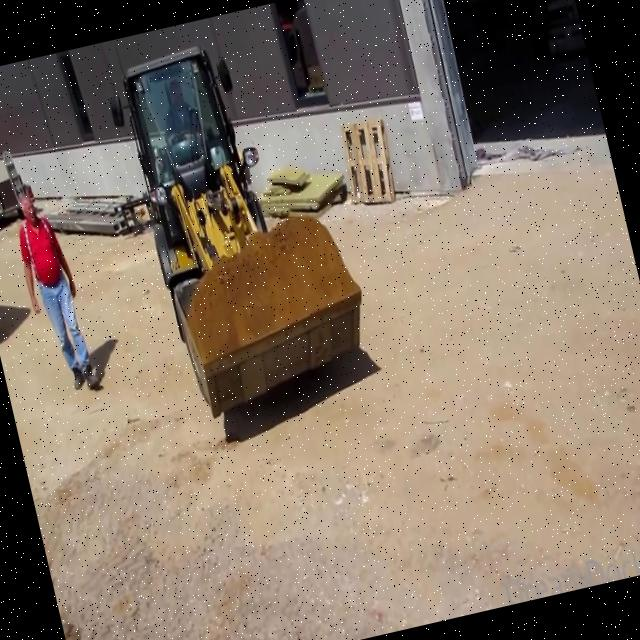Loader: (100, 21, 382, 423)
